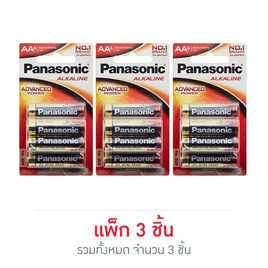Battery: (25, 100, 88, 120), (101, 100, 164, 120), (178, 101, 241, 121), (178, 117, 241, 137), (99, 117, 162, 137), (25, 118, 88, 138), (23, 132, 86, 152), (99, 132, 162, 152), (177, 132, 240, 152), (177, 149, 240, 169), (101, 149, 164, 169), (24, 150, 87, 170)
